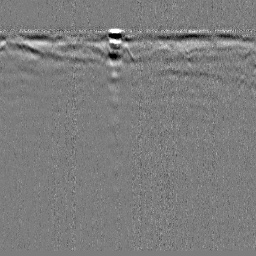cavity: (120, 40, 134, 59)
